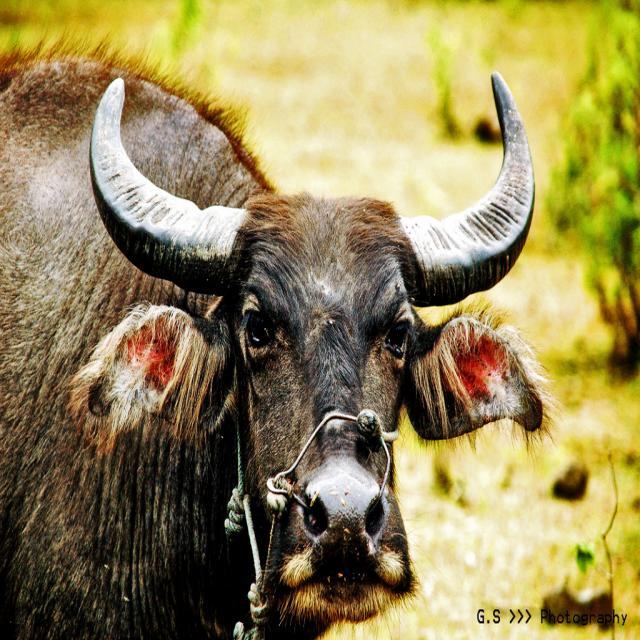Cattle: (1, 22, 563, 639)
